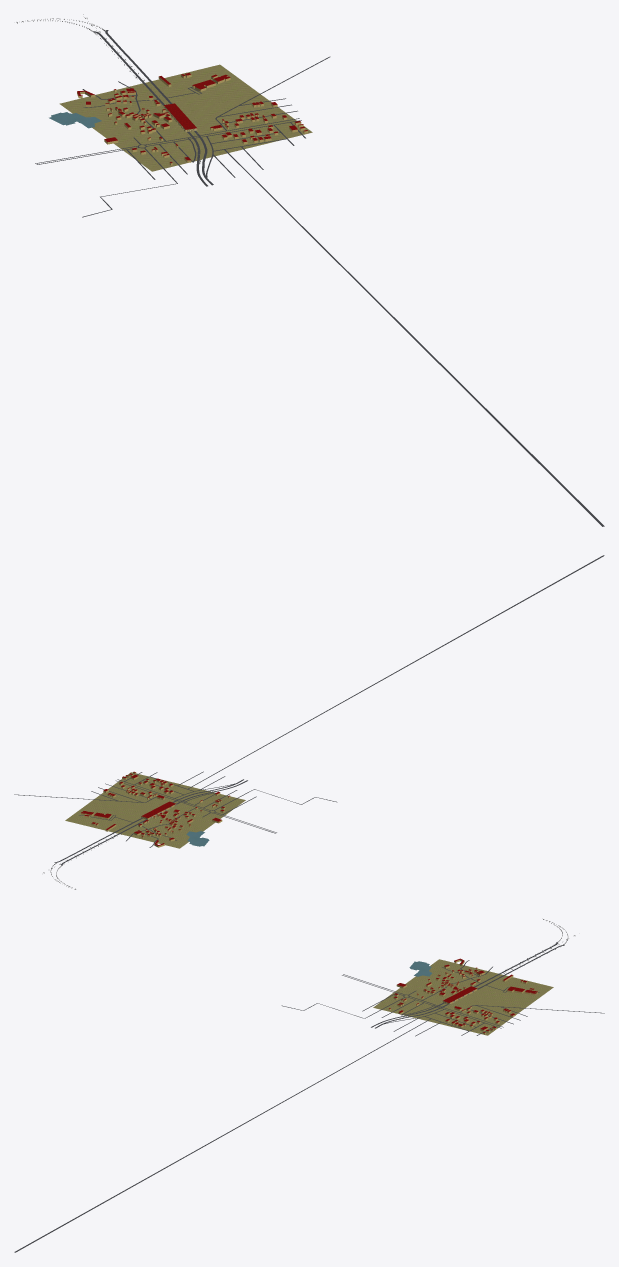
3 views of the same model, one above another, from view 1: azimuth 30°, elevation 25°; view 2: azimuth 150°, elevation 25°; view 3: azimuth 330°, elevation 25° (orthographic). The views are drawn at different scales.
Visible parts, largest first — view 1: SurfaceArea w-1 (×4), RoadJunction n9981992719; view 2: SurfaceArea w-1 (×4), RoadJunction n9981992719; view 3: SurfaceArea w-1 (×4), RoadJunction n9981992719.
Boxes of the visible parts, box(x1,y1,x2,y2) form: SurfaceArea w-1 (×4): box(59, 64, 312, 171); RoadJunction n9981992719: box(224, 149, 604, 526); SurfaceArea w-1 (×4): box(65, 772, 245, 848); RoadJunction n9981992719: box(187, 555, 604, 789); SurfaceArea w-1 (×4): box(373, 959, 553, 1035); RoadJunction n9981992719: box(14, 1018, 431, 1252).
Size of the model in its own units: 1178 by 10.5 by 3864.
Materials: 8 (7 with a texture image).
